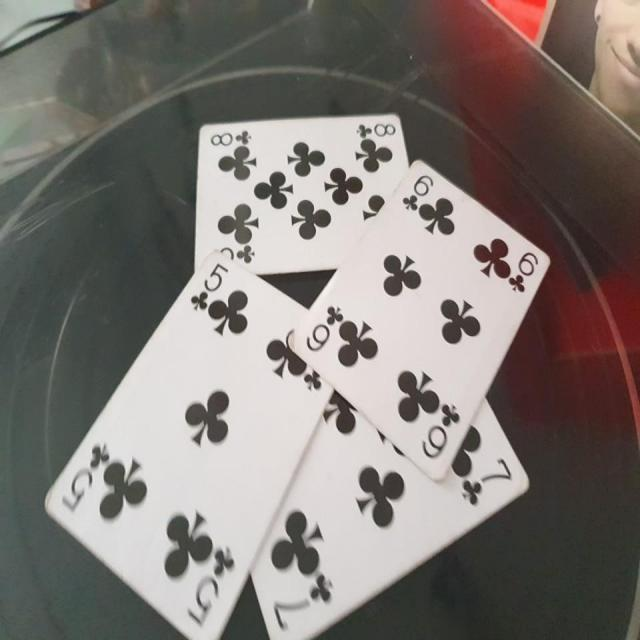5 Trefoils: (45, 247, 332, 640)
6 Trefoils: (287, 156, 552, 482)
7 Trefoils: (243, 395, 531, 640)
8 Trefoils: (191, 111, 408, 277)
